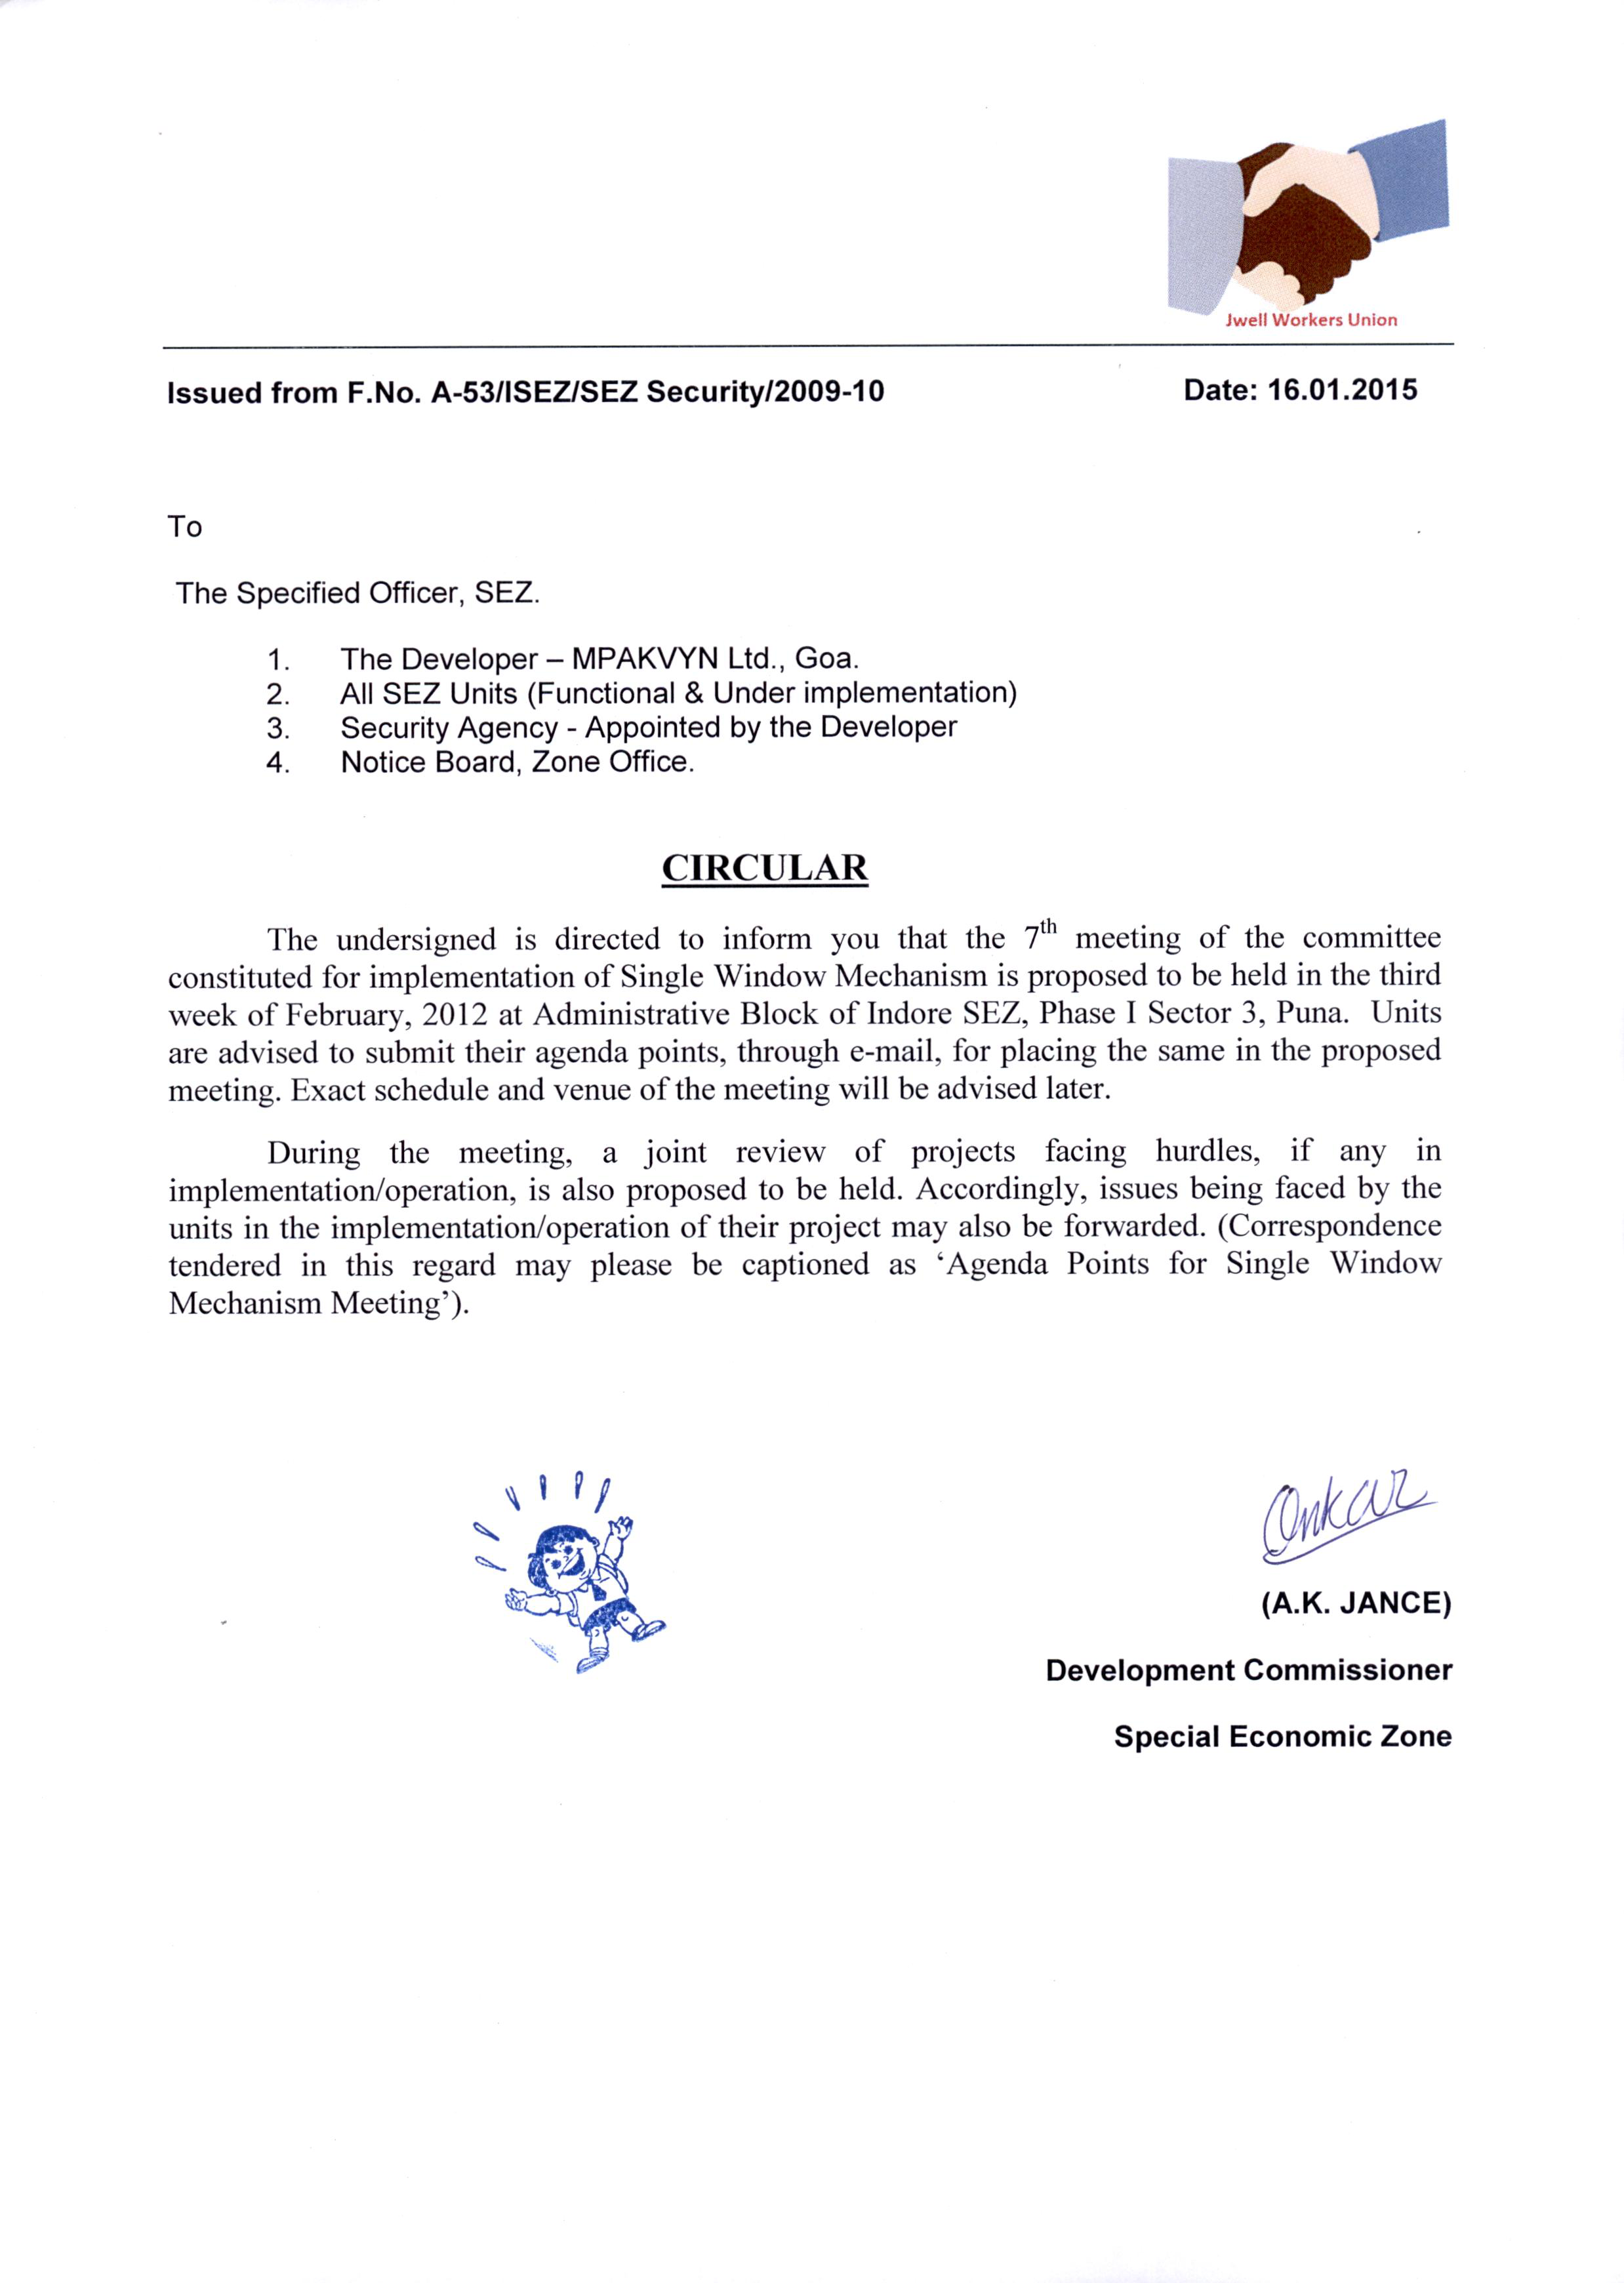Signature: (1255, 1453, 1439, 1573)
